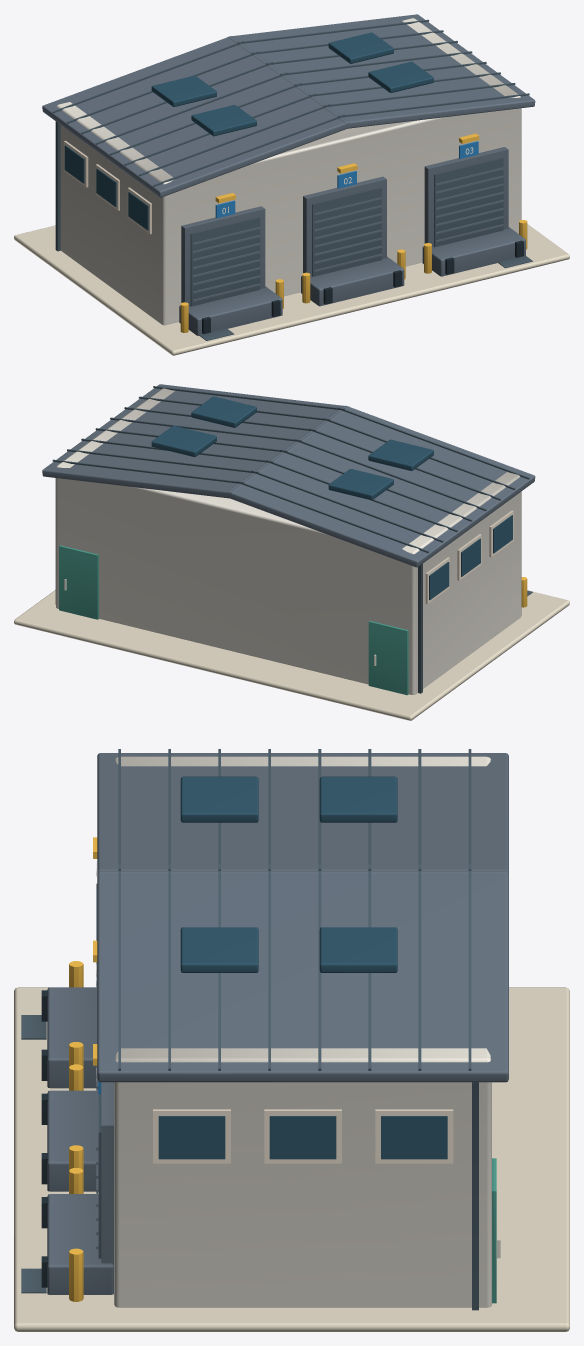
Rendered from port-warehouse.glb.
3 renders of one model, top to bottom at view 1: azimuth 30°, elevation 25°; view 2: azimuth 150°, elevation 25°; view 3: azimuth 270°, elevation 25°, orthographic. The views are drawn at different scales.
Visible parts, largest first — view 1: roof slope, warehouse walls, roof standing seam, paved loading yard, roof light, dock bollard, side frame, dock rubber buffer, dock number board; view 2: warehouse walls, roof slope, paved loading yard, roof standing seam, roof light, service door, side frame; view 3: roof slope, warehouse walls, paved loading yard, roof light, roof standing seam, side frame, dock bollard, dock rubber buffer, service door.
Part boxes in pixels (left/top/right/bottom): roof slope: left=42, top=14, right=535, bottom=335; warehouse walls: left=56, top=18, right=521, bottom=325; roof standing seam: left=52, top=19, right=532, bottom=340; paved loading yard: left=14, top=224, right=569, bottom=355; roof light: left=64, top=32, right=433, bottom=230; dock bollard: left=180, top=133, right=527, bottom=332; side frame: left=64, top=140, right=151, bottom=234; dock rubber buffer: left=202, top=240, right=523, bottom=333; dock number board: left=215, top=141, right=478, bottom=218; warehouse walls: left=56, top=388, right=521, bottom=694; roof slope: left=42, top=384, right=535, bottom=567; paved loading yard: left=14, top=590, right=569, bottom=720; roof standing seam: left=52, top=386, right=532, bottom=693; roof light: left=151, top=396, right=512, bottom=600; service door: left=59, top=545, right=408, bottom=695; side frame: left=425, top=510, right=513, bottom=603; roof slope: left=47, top=753, right=508, bottom=1294; warehouse walls: left=96, top=756, right=500, bottom=1307; paved loading yard: left=14, top=987, right=569, bottom=1331; roof light: left=158, top=776, right=447, bottom=1159; roof standing seam: left=21, top=749, right=478, bottom=1310; side frame: left=153, top=1109, right=453, bottom=1163; dock bollard: left=69, top=837, right=97, bottom=1301; dock rubber buffer: left=41, top=990, right=48, bottom=1287; service door: left=492, top=1158, right=496, bottom=1303.
Bounding box in the file's own units: 7.2 × 2.96 × 5.
